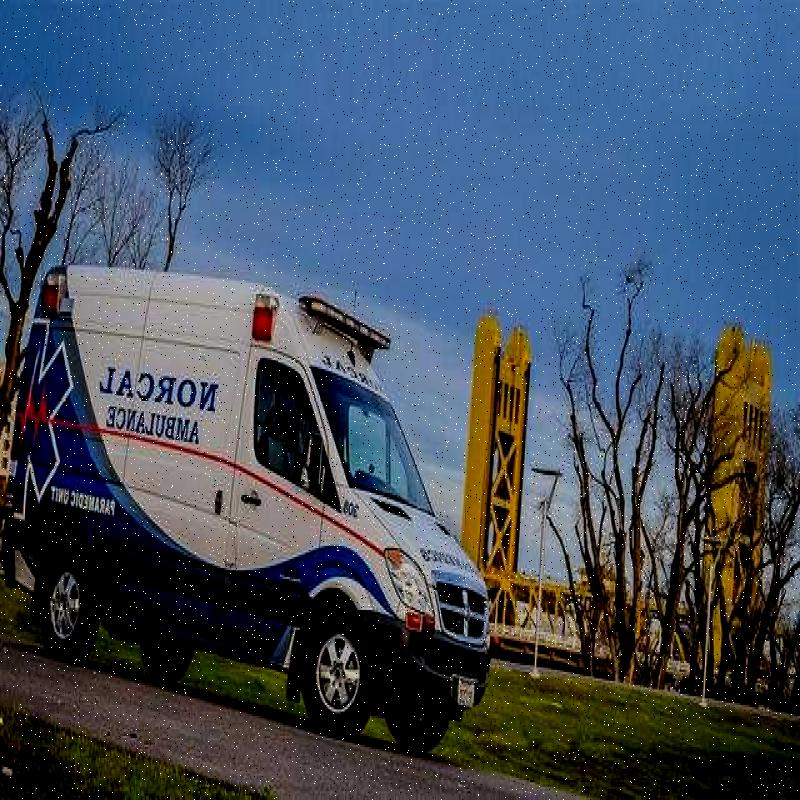AmbulanceSiren: (288, 289, 407, 343)
